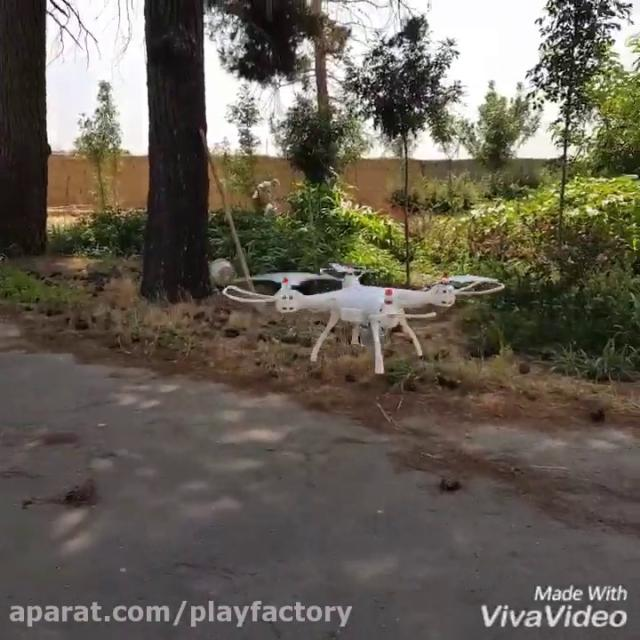drone: (222, 260, 505, 376)
